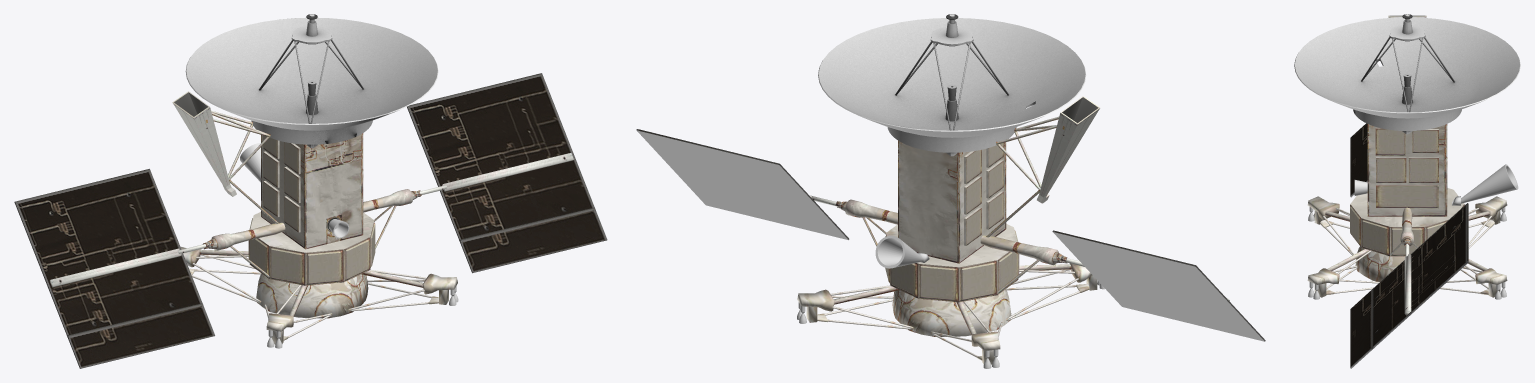
The model's file is Magellan.glb.
The picture shows the model from 3 angles, left to right: view 1: azimuth 30°, elevation 25°; view 2: azimuth 150°, elevation 25°; view 3: azimuth 270°, elevation 25°; orthographic projection. The views are drawn at different scales.
Visible parts, largest first — view 1: tex_01, dish_etc, aluminum.002, aluminum; view 2: tex_01, dish_etc, shiny_panel, aluminum; view 3: tex_01, dish_etc, aluminum, aluminum.002.
Boxes of the visible parts, left/top/right/bottom form: tex_01: left=14, top=73, right=607, bottom=368; dish_etc: left=185, top=14, right=438, bottom=148; aluminum.002: left=267, top=219, right=458, bottom=348; aluminum: left=240, top=143, right=260, bottom=182; tex_01: left=636, top=96, right=1265, bottom=364; dish_etc: left=818, top=14, right=1086, bottom=156; shiny_panel: left=637, top=130, right=1264, bottom=341; aluminum: left=875, top=235, right=922, bottom=268; tex_01: left=1307, top=15, right=1507, bottom=368; dish_etc: left=1294, top=14, right=1520, bottom=134; aluminum: left=1461, top=164, right=1518, bottom=203; aluminum.002: left=1308, top=180, right=1506, bottom=299.
Size of the model in its own units: 8.9 by 4.53 by 3.7.
Materials: 4 (2 with a texture image).
